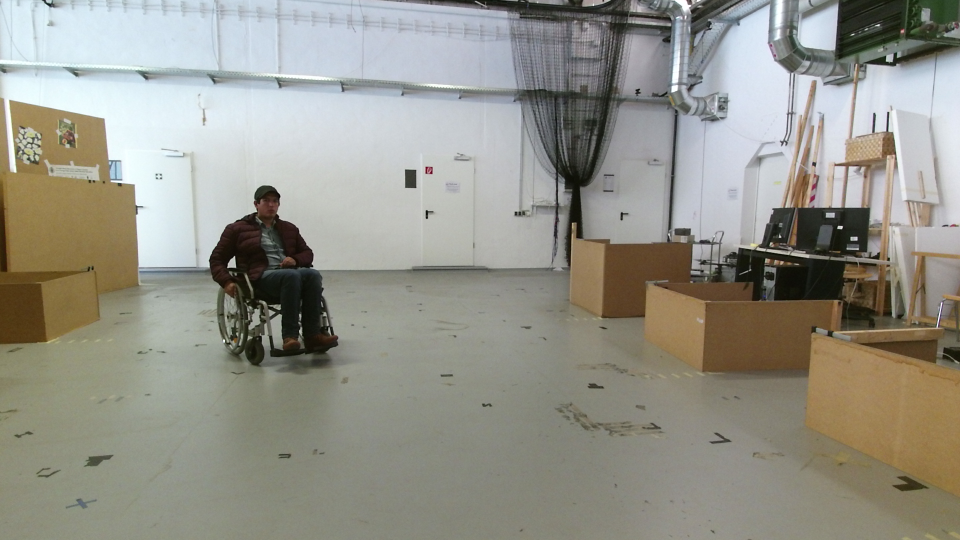wheelchair: (225, 182, 353, 367)
